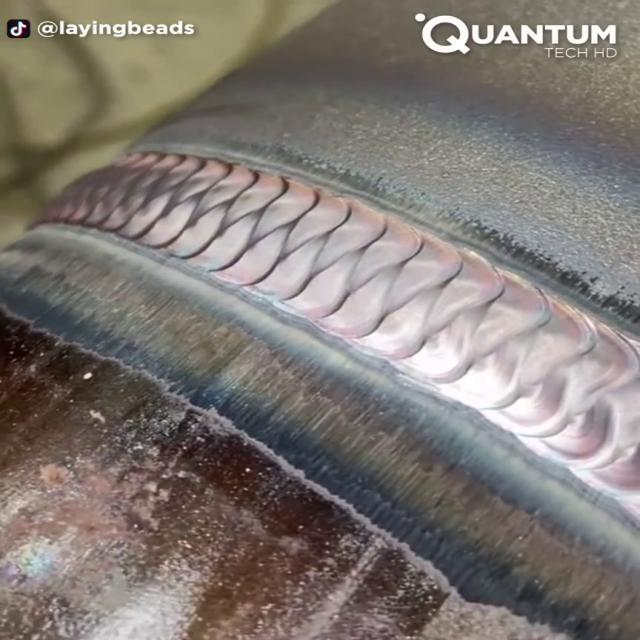Good Welding: (44, 152, 636, 511)
